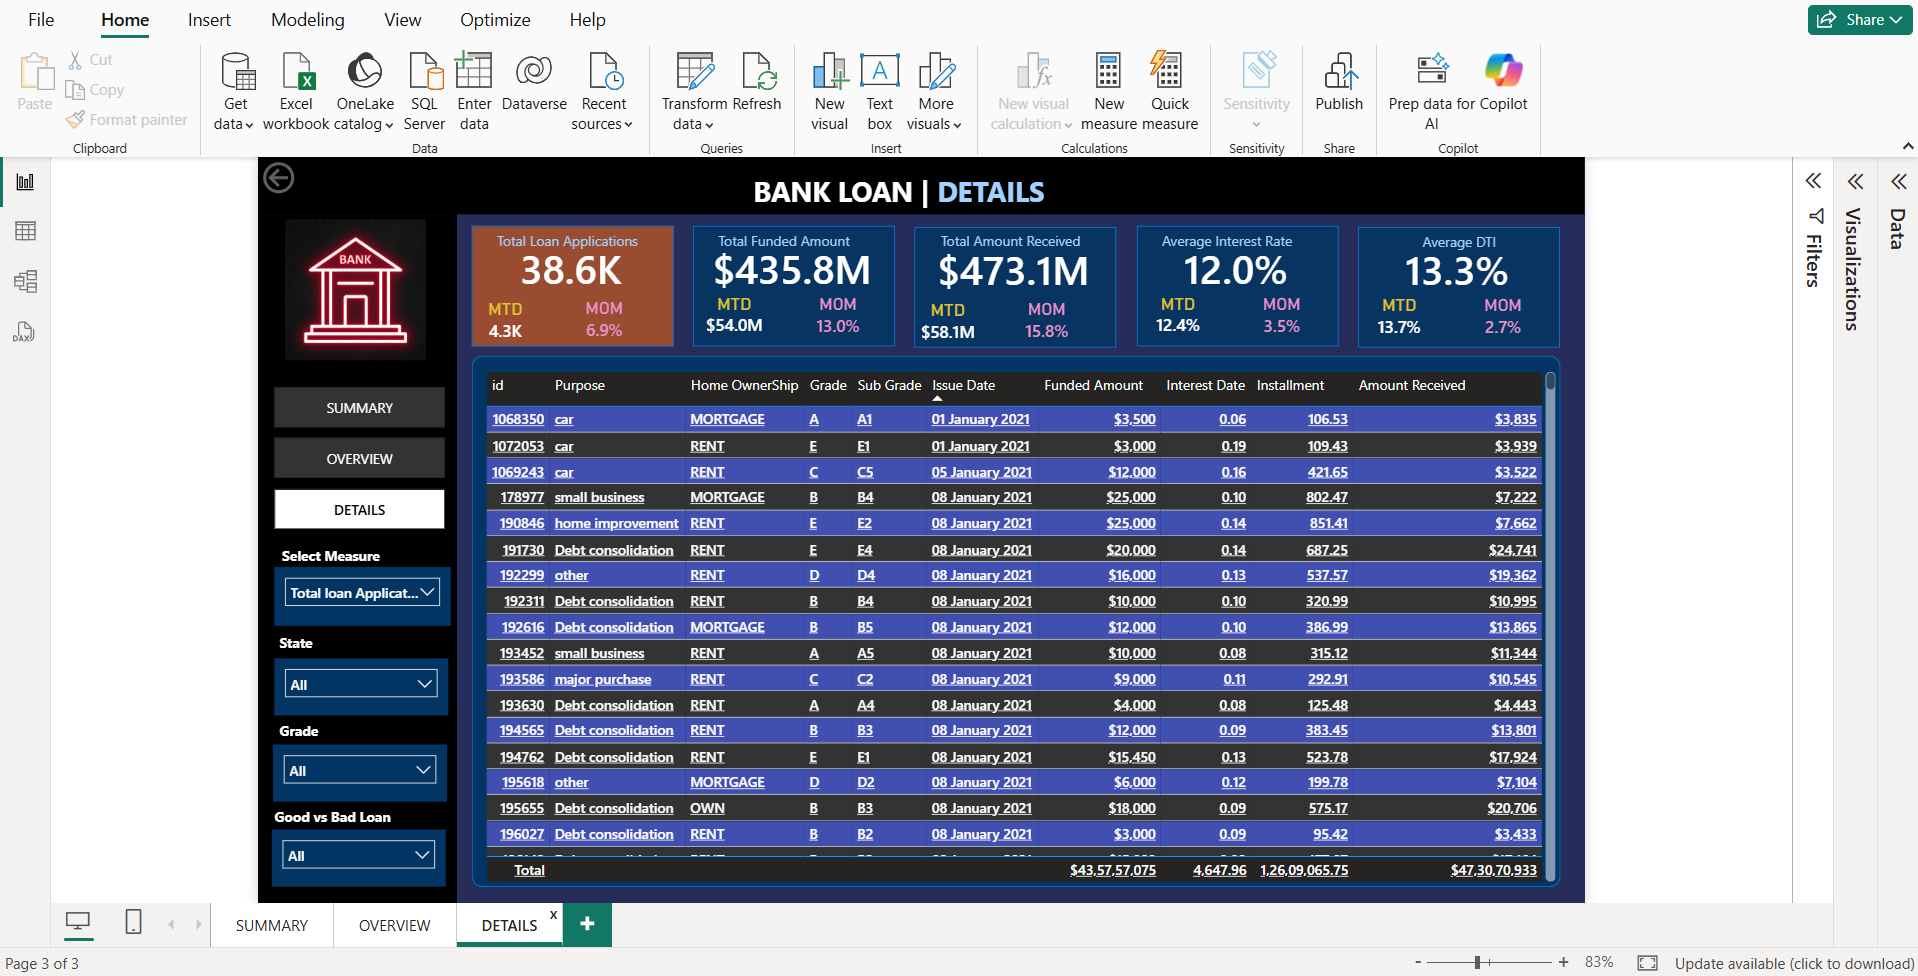

This screenshot's page, from the dashboard's own definition file:
{"tool":"powerbi","page":{"name":"DETAILS","canvas":[1280,720],"ordinal":2},"visuals":[{"type":"shape","box":[0,55.3,191.8,664.7],"z":0},{"type":"shape","box":[0,0,1280,55.5],"z":1000},{"type":"group","id":"g1","title":"Group 1","box":[193.8,66.7,216.1,117.3],"z":2000},{"type":"shape","box":[206.1,66.7,195,116.5],"z":3000,"group":"g1"},{"type":"group","id":"g2","title":"Group 1","box":[407.7,66.7,216.1,116],"z":3000},{"type":"shape","box":[420,66.7,195,116.5],"z":3000,"group":"g2"},{"type":"shape","box":[847.8,66.7,195,116.5],"z":3000,"group":"g4"},{"type":"shape","box":[1061.7,67.9,195,116.5],"z":3000,"group":"g5"},{"type":"shape","box":[633.9,68.1,195,116.5],"z":3000,"group":"g3"},{"type":"group","id":"g3","title":"Group 1","box":[621.6,66.7,216.1,118.5],"z":4000},{"type":"card","fields":{"Values":["bank_loan_data.Total loan Application"]},"box":[193.8,72.8,215.8,69.9],"z":4000,"group":"g1"},{"type":"card","fields":{"Values":["bank_loan_data.Total_Funded_Amount"]},"box":[407.7,72.8,215.8,69.9],"z":4000,"group":"g2"},{"type":"card","fields":{"Values":["bank_loan_data.Avg Intrest Rate"]},"box":[835.5,72.8,215.8,69.9],"z":4000,"group":"g4"},{"type":"card","fields":{"Values":["bank_loan_data.Avg dti"]},"box":[1049.4,74,215.8,69.9],"z":4000,"group":"g5"},{"type":"card","fields":{"Values":["bank_loan_data.Total Amount Received"]},"box":[621.6,74.2,215.8,69.9],"z":4000,"group":"g3"},{"type":"textbox","box":[225.7,66.7,157,34.3],"z":5000,"group":"g1"},{"type":"textbox","box":[439.6,66.7,157,34.3],"z":5000,"group":"g2"},{"type":"textbox","box":[654.1,66.7,160.5,35.8],"z":5000,"group":"g3"},{"type":"group","id":"g4","title":"Group 1","box":[835.5,66.7,216.1,116],"z":5000},{"type":"textbox","box":[867.4,66.7,157,34.3],"z":5000,"group":"g4"},{"type":"textbox","box":[1081.3,67.9,157,34.3],"z":5000,"group":"g5"},{"type":"textbox","box":[18.1,370.4,155.7,34.3],"z":5000,"group":"g8"},{"type":"textbox","box":[15.7,454.8,155.7,34.3],"z":5000,"group":"g7"},{"type":"textbox","box":[15.7,539.3,155.7,34.3],"z":5000,"group":"g6"},{"type":"group","id":"g5","title":"Group 1","box":[1049.4,67.9,216.1,116],"z":6000},{"type":"card","title":"MTD","fields":{"Values":["bank_loan_data.MTD Funded Amount"]},"box":[427.2,131.6,65.4,46.9],"z":7000,"group":"g2"},{"type":"card","title":"MTD","fields":{"Values":["bank_loan_data.MTD Average Intrest Rate"]},"box":[855,131.6,65.4,46.9],"z":7000,"group":"g4"},{"type":"card","title":"MTD","fields":{"Values":["bank_loan_data.MTD Average DTI"]},"box":[1068.9,132.8,65.4,46.9],"z":7000,"group":"g5"},{"type":"card","title":"MTD","fields":{"Values":["bank_loan_data.MTD Loan Applications"]},"box":[206.1,136.6,65,47.8],"z":7000,"group":"g1"},{"type":"card","title":"MTD","fields":{"Values":["bank_loan_data.MTD Total Amount Recieved"]},"box":[633.9,138,65,47.8],"z":7000,"group":"g3"},{"type":"shape","box":[206.3,191.8,1050.8,512.7],"z":7000},{"type":"textbox","box":[472.9,9.7,333,45.8],"z":8000},{"type":"card","title":"MOM","fields":{"Values":["bank_loan_data.MoM Funded Amount"]},"box":[527.2,131.6,65.4,48.1],"z":8001,"group":"g2"},{"type":"card","title":"MOM","fields":{"Values":["bank_loan_data.MoM Average Intrest Rate"]},"box":[955,131.6,65.4,48.1],"z":8001,"group":"g4"},{"type":"card","title":"MOM","fields":{"Values":["bank_loan_data.MoM Average DTI"]},"box":[1168.9,132.8,65.4,48.1],"z":8001,"group":"g5"},{"type":"card","title":"MOM","fields":{"Values":["bank_loan_data.MoM Loan Application"]},"box":[301.3,135.1,65.4,48.1],"z":8001,"group":"g1"},{"type":"card","title":"MOM","fields":{"Values":["bank_loan_data.MoM Total Amount Recieved"]},"box":[729.1,136.5,65.4,48.1],"z":8001,"group":"g3"},{"type":"tableEx","fields":{"Values":["bank_loan_data.id","bank_loan_data.purpose","bank_loan_data.home_ownership","bank_loan_data.grade","bank_loan_data.sub_grade","bank_loan_data.issue_date","bank_loan_data.Total_Funded_Amount","Sum(bank_loan_data.int_rate)","Sum(bank_loan_data.installment)","bank_loan_data.Total Amount Received"]},"box":[214.7,202.7,1042.4,501.9],"z":9000},{"type":"actionButton","box":[0,0,100,40],"z":10000},{"type":"pageNavigator","box":[15.7,222,165.3,137.5],"z":11000},{"type":"textbox","box":[10.9,622.5,155.6,35],"z":12000},{"type":"slicer","fields":{"Values":["bank_loan_data.address_state"]},"box":[15.7,483.8,167.7,55.5],"z":13000},{"type":"slicer","fields":{"Values":["bank_loan_data.grade"]},"box":[14.5,567,167.7,55.5],"z":14000},{"type":"slicer","fields":{"Values":["Select Measure.Select Measure"]},"box":[15.7,395.7,170.1,56.7],"z":15000},{"type":"group","id":"g6","title":"Group 1","box":[15.7,539.3,155.6,33.8],"z":16000},{"type":"slicer","fields":{"Values":["bank_loan_data.Good vs Bad Loan"]},"box":[13.3,649.1,167.7,55.5],"z":17000},{"type":"group","id":"g7","title":"Group 1","box":[15.7,454.8,155.6,35],"z":18000},{"type":"group","id":"g8","title":"Group 1","box":[18.1,370.4,155.6,33.8],"z":19000},{"type":"image","box":[8.4,55.5,171.3,146],"z":20000}]}

Visuals, with their boxes on the page's 1280x720 design canvas (x1, y1, x2, y2). These are canvas units, not pixel positions in the 1918x976 screenshot, which may show the page scaled, cropped or inside an application window:
shape: {"left": 0, "top": 55, "right": 192, "bottom": 720}
shape: {"left": 0, "top": 0, "right": 1280, "bottom": 56}
"Group 1" group: {"left": 194, "top": 67, "right": 410, "bottom": 184}
shape: {"left": 206, "top": 67, "right": 401, "bottom": 183}
"Group 1" group: {"left": 408, "top": 67, "right": 624, "bottom": 183}
shape: {"left": 420, "top": 67, "right": 615, "bottom": 183}
shape: {"left": 848, "top": 67, "right": 1043, "bottom": 183}
shape: {"left": 1062, "top": 68, "right": 1257, "bottom": 184}
shape: {"left": 634, "top": 68, "right": 829, "bottom": 185}
"Group 1" group: {"left": 622, "top": 67, "right": 838, "bottom": 185}
card - bank_loan_data.Total loan Application: {"left": 194, "top": 73, "right": 410, "bottom": 143}
card - bank_loan_data.Total_Funded_Amount: {"left": 408, "top": 73, "right": 624, "bottom": 143}
card - bank_loan_data.Avg Intrest Rate: {"left": 836, "top": 73, "right": 1051, "bottom": 143}
card - bank_loan_data.Avg dti: {"left": 1049, "top": 74, "right": 1265, "bottom": 144}
card - bank_loan_data.Total Amount Received: {"left": 622, "top": 74, "right": 837, "bottom": 144}
textbox: {"left": 226, "top": 67, "right": 383, "bottom": 101}
textbox: {"left": 440, "top": 67, "right": 597, "bottom": 101}
textbox: {"left": 654, "top": 67, "right": 815, "bottom": 102}
"Group 1" group: {"left": 836, "top": 67, "right": 1052, "bottom": 183}
textbox: {"left": 867, "top": 67, "right": 1024, "bottom": 101}
textbox: {"left": 1081, "top": 68, "right": 1238, "bottom": 102}
textbox: {"left": 18, "top": 370, "right": 174, "bottom": 405}
textbox: {"left": 16, "top": 455, "right": 171, "bottom": 489}
textbox: {"left": 16, "top": 539, "right": 171, "bottom": 574}
"Group 1" group: {"left": 1049, "top": 68, "right": 1266, "bottom": 184}
"MTD" card: {"left": 427, "top": 132, "right": 493, "bottom": 178}
"MTD" card: {"left": 855, "top": 132, "right": 920, "bottom": 178}
"MTD" card: {"left": 1069, "top": 133, "right": 1134, "bottom": 180}
"MTD" card: {"left": 206, "top": 137, "right": 271, "bottom": 184}
"MTD" card: {"left": 634, "top": 138, "right": 699, "bottom": 186}
shape: {"left": 206, "top": 192, "right": 1257, "bottom": 704}
textbox: {"left": 473, "top": 10, "right": 806, "bottom": 56}
"MOM" card: {"left": 527, "top": 132, "right": 593, "bottom": 180}
"MOM" card: {"left": 955, "top": 132, "right": 1020, "bottom": 180}
"MOM" card: {"left": 1169, "top": 133, "right": 1234, "bottom": 181}
"MOM" card: {"left": 301, "top": 135, "right": 367, "bottom": 183}
"MOM" card: {"left": 729, "top": 136, "right": 794, "bottom": 185}
tableEx - bank_loan_data.id x bank_loan_data.purpose: {"left": 215, "top": 203, "right": 1257, "bottom": 705}
actionButton: {"left": 0, "top": 0, "right": 100, "bottom": 40}
pageNavigator: {"left": 16, "top": 222, "right": 181, "bottom": 360}
textbox: {"left": 11, "top": 622, "right": 166, "bottom": 658}
slicer - bank_loan_data.address_state: {"left": 16, "top": 484, "right": 183, "bottom": 539}
slicer - bank_loan_data.grade: {"left": 14, "top": 567, "right": 182, "bottom": 622}
slicer - Select Measure.Select Measure: {"left": 16, "top": 396, "right": 186, "bottom": 452}
"Group 1" group: {"left": 16, "top": 539, "right": 171, "bottom": 573}
slicer - bank_loan_data.Good vs Bad Loan: {"left": 13, "top": 649, "right": 181, "bottom": 705}
"Group 1" group: {"left": 16, "top": 455, "right": 171, "bottom": 490}
"Group 1" group: {"left": 18, "top": 370, "right": 174, "bottom": 404}
image: {"left": 8, "top": 56, "right": 180, "bottom": 202}
